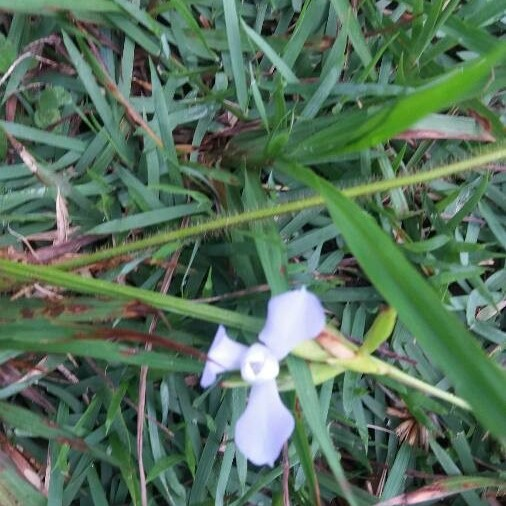obstacle: (71, 66, 484, 348)
